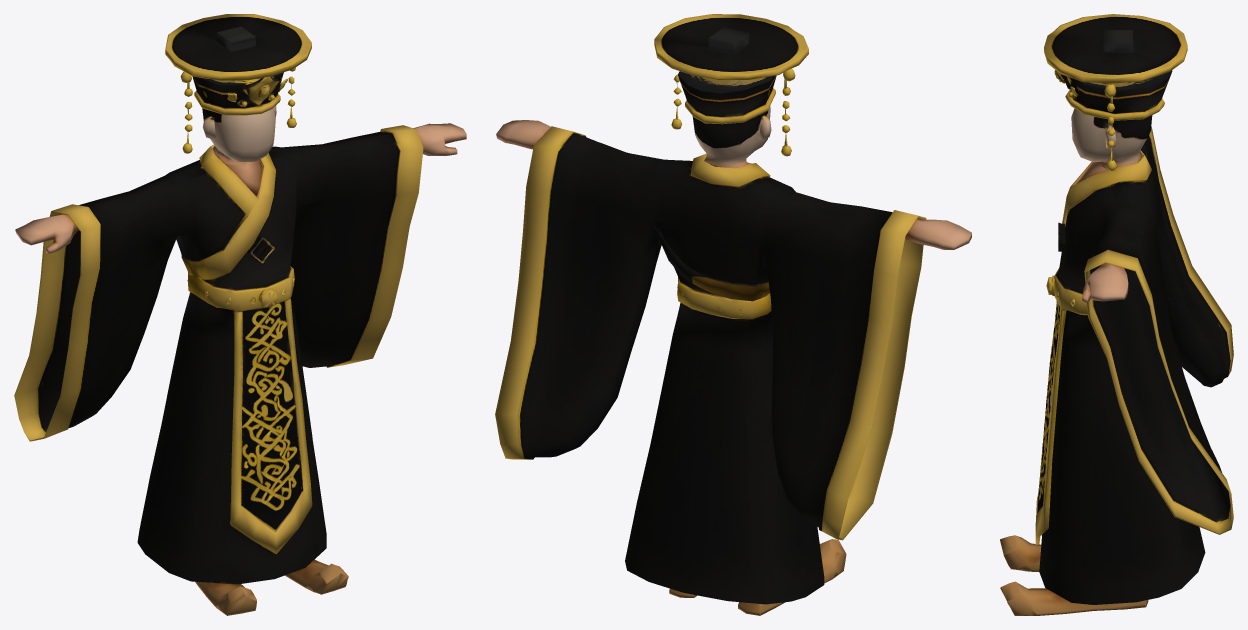
File: char_qin.glb
3 views of the same model, side by side, from view 1: azimuth 30°, elevation 25°; view 2: azimuth 150°, elevation 25°; view 3: azimuth 270°, elevation 25° (orthographic). The views are drawn at different scales.
Parts seen in each view (by area): view 1: tripo_node_20ef1e58-97f4-41a0-8887-febc6ef6addb; view 2: tripo_node_20ef1e58-97f4-41a0-8887-febc6ef6addb; view 3: tripo_node_20ef1e58-97f4-41a0-8887-febc6ef6addb.
Boxes of the visible parts, bbox=[...] form: tripo_node_20ef1e58-97f4-41a0-8887-febc6ef6addb: bbox=[14, 14, 466, 615]; tripo_node_20ef1e58-97f4-41a0-8887-febc6ef6addb: bbox=[495, 14, 971, 615]; tripo_node_20ef1e58-97f4-41a0-8887-febc6ef6addb: bbox=[1000, 14, 1233, 615].
Size of the model in its own units: 1.55 by 1.78 by 0.6862.
Materials: 1 (1 with a texture image).
